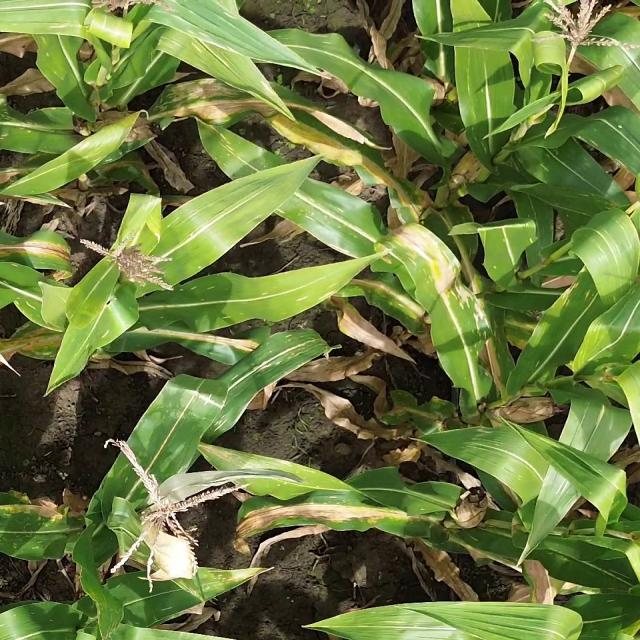gray-leaf-spot: (412, 262, 527, 378), (215, 327, 316, 429), (142, 4, 274, 74), (545, 122, 640, 218), (176, 276, 324, 326), (544, 251, 624, 328), (468, 420, 523, 479)
northern-leaf-blight: (239, 498, 414, 552), (0, 312, 82, 383), (0, 234, 86, 288)
southern-leaf-blight: (240, 160, 384, 246), (7, 493, 95, 575), (208, 441, 309, 494), (166, 562, 274, 606), (76, 581, 130, 640)
